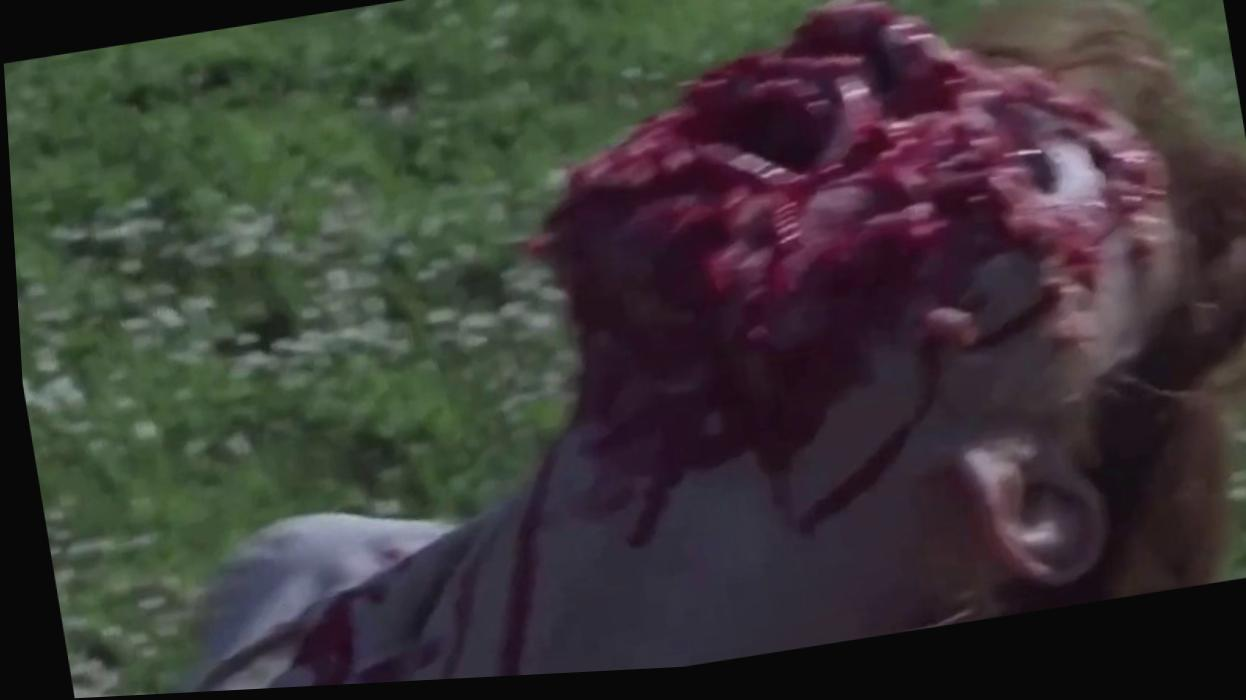Fire: (533, 6, 1172, 596), (191, 451, 552, 694)
